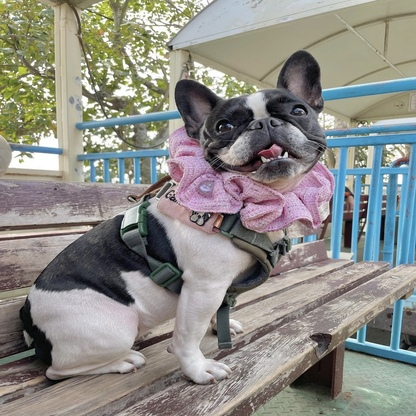bulldog: (18, 47, 332, 387)
